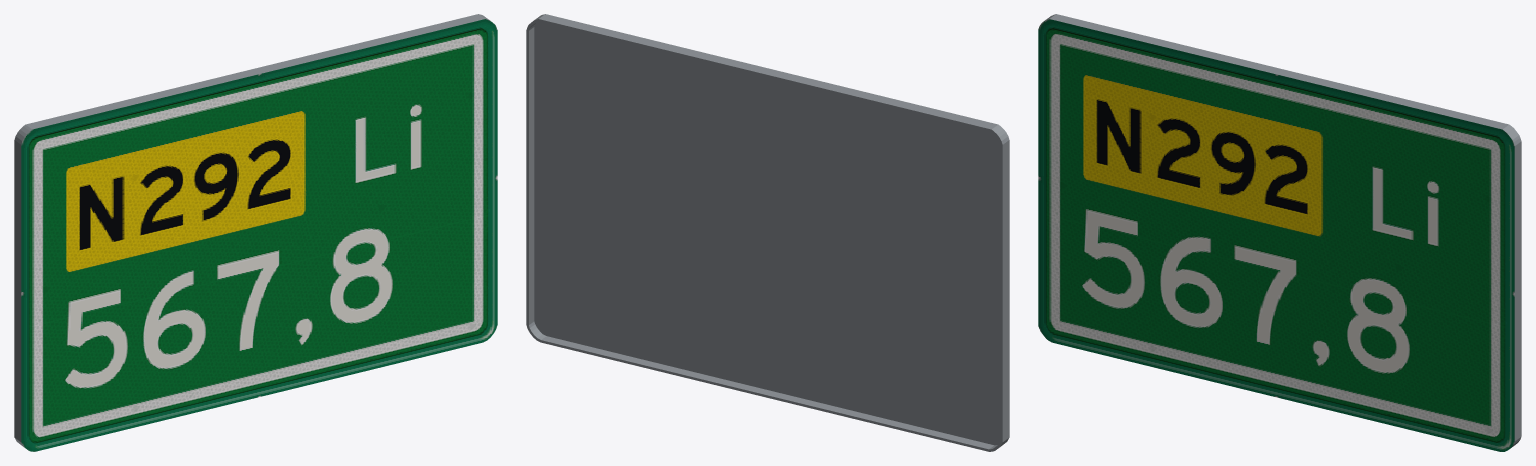
3 views of the same model, side by side, from view 1: azimuth 30°, elevation 25°; view 2: azimuth 150°, elevation 25°; view 3: azimuth 330°, elevation 25° (orthographic).
Visible parts, largest first — view 1: cat_b11cb8ad568ba8fc; view 2: cat_b11cb8ad568ba8fc; view 3: cat_b11cb8ad568ba8fc.
Boxes of the visible parts, x1=… form: cat_b11cb8ad568ba8fc: x1=14, y1=14, x2=497, y2=451; cat_b11cb8ad568ba8fc: x1=526, y1=14, x2=1009, y2=451; cat_b11cb8ad568ba8fc: x1=1038, y1=14, x2=1521, y2=451.
Size of the model in its own units: 0.6 by 0.015 by 0.3889.
2 materials, 1 textured.
